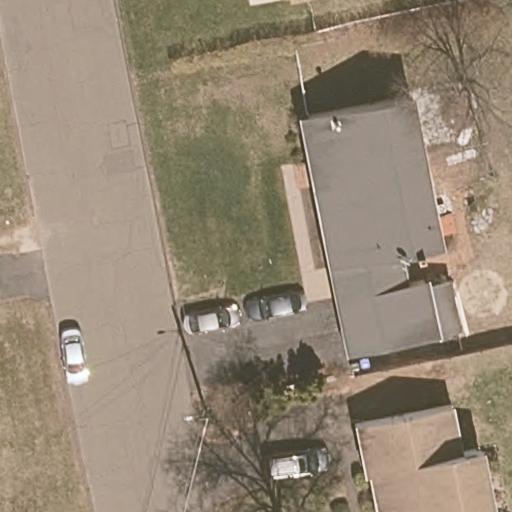DT: (183, 406, 211, 429)
